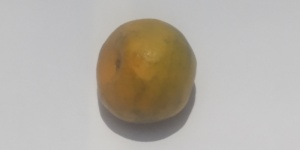BAD: (96, 18, 195, 125)
